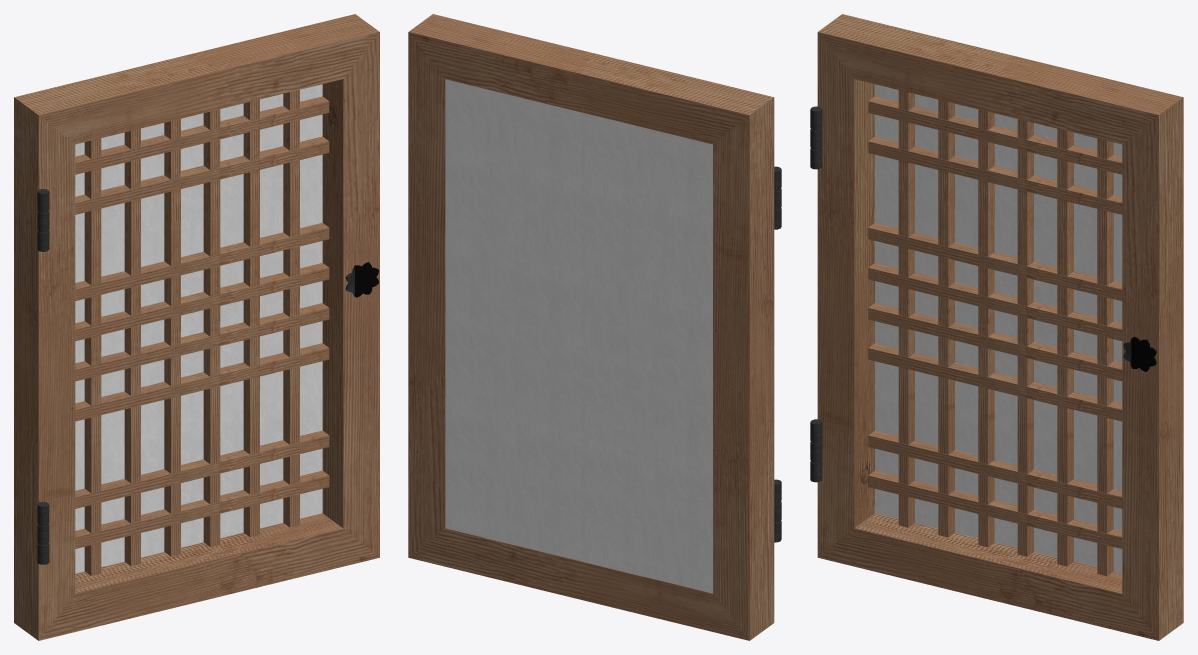
File: SM_Yeonkyung_O_Haenggak_Win_C_001.fbx
3 renders of one model, left to right at view 1: azimuth 30°, elevation 25°; view 2: azimuth 150°, elevation 25°; view 3: azimuth 330°, elevation 25°, orthographic.
Visible parts, largest first — view 1: SM_Yeonkyung_O_Haenggak_Win_C_001; view 2: SM_Yeonkyung_O_Haenggak_Win_C_001; view 3: SM_Yeonkyung_O_Haenggak_Win_C_001.
Part boxes in pixels (<box>): SM_Yeonkyung_O_Haenggak_Win_C_001: <box>14,14,379,640</box>; SM_Yeonkyung_O_Haenggak_Win_C_001: <box>408,14,781,640</box>; SM_Yeonkyung_O_Haenggak_Win_C_001: <box>810,14,1183,640</box>.
Size of the model in its own units: 40.57 by 59.12 by 6.2.
